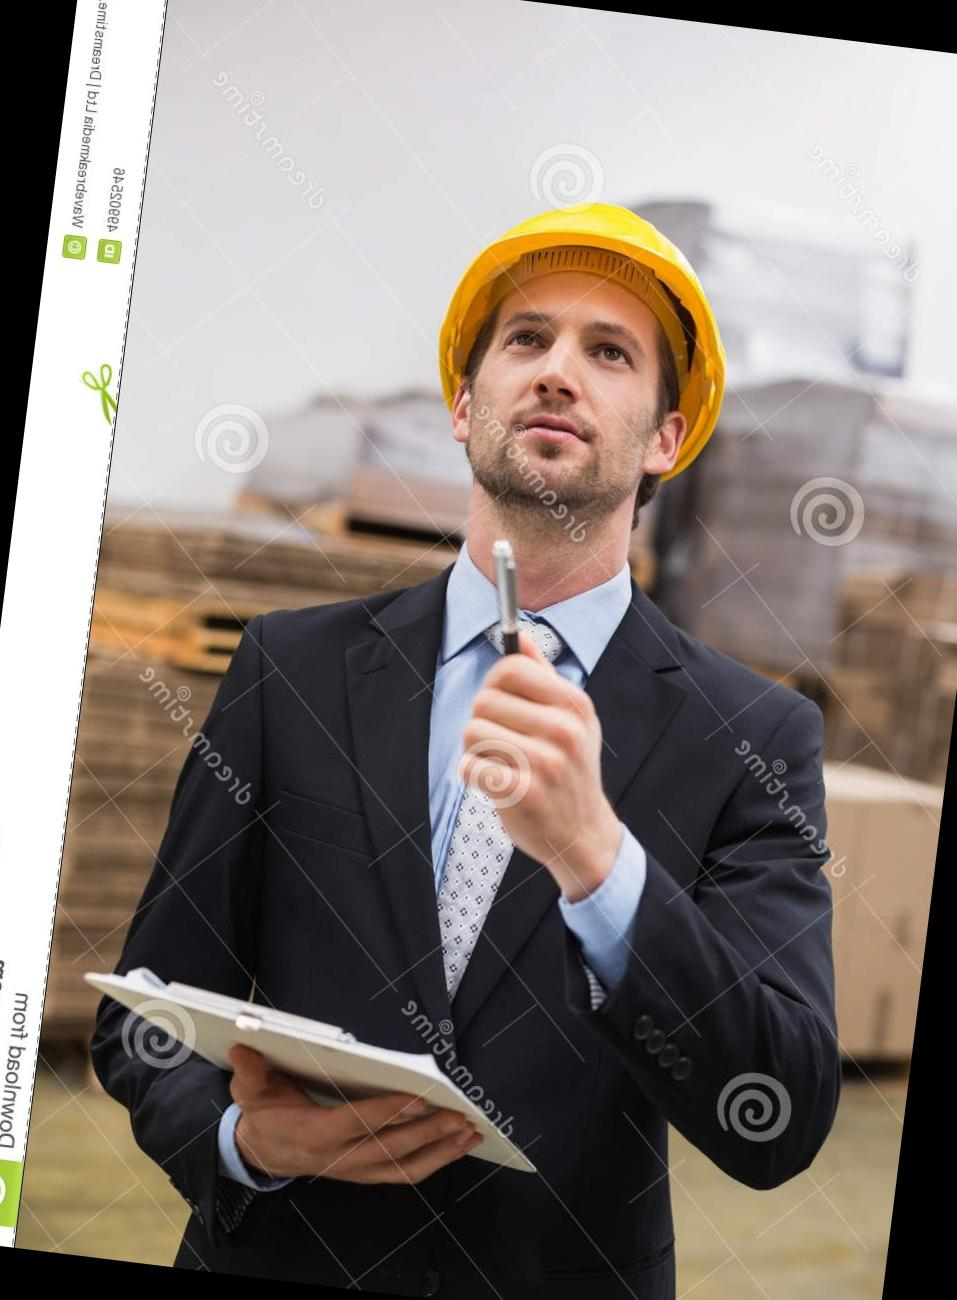helmet: (423, 180, 757, 457)
no_wear: (168, 588, 845, 1300)
